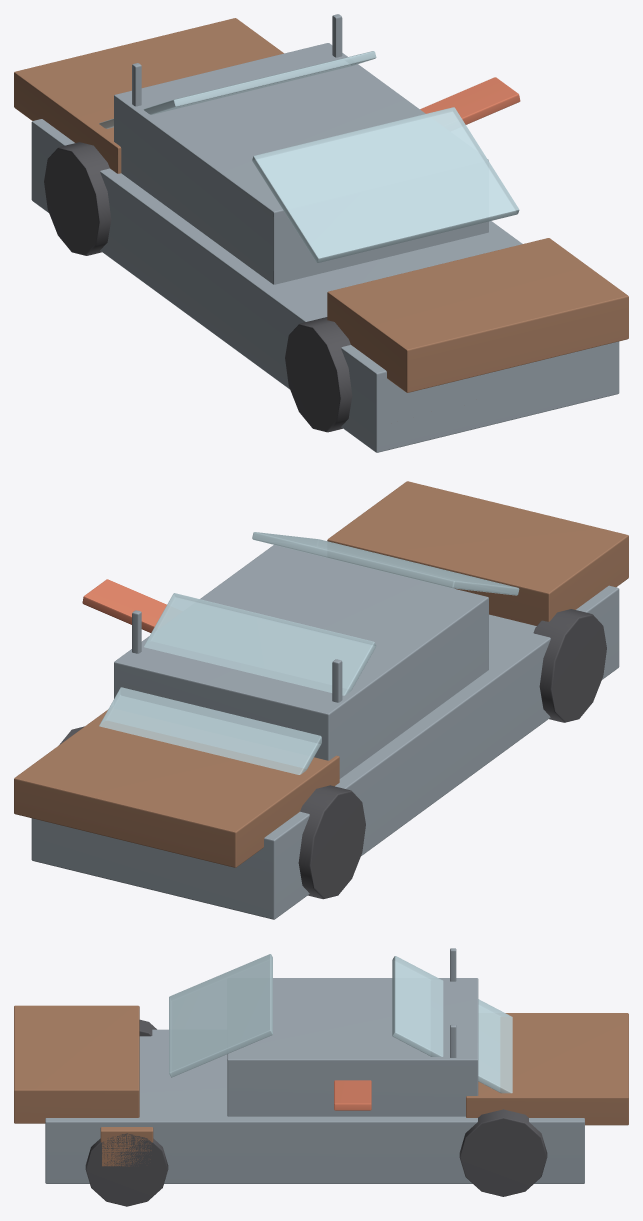
Rendered from sedan_wreck.glb.
The picture shows the model from 3 angles, top to bottom: view 1: azimuth 30°, elevation 25°; view 2: azimuth 150°, elevation 25°; view 3: azimuth 270°, elevation 25°; orthographic projection. The views are drawn at different scales.
Visible parts, largest first — view 1: sedan_wreck; view 2: sedan_wreck; view 3: sedan_wreck.
Part boxes in pixels (x1=…): sedan_wreck: x1=14, y1=14, x2=628, y2=452; sedan_wreck: x1=14, y1=481, x2=628, y2=919; sedan_wreck: x1=14, y1=948, x2=628, y2=1206.
Size of the model in its own units: 2.45 by 1.49 by 4.9.
